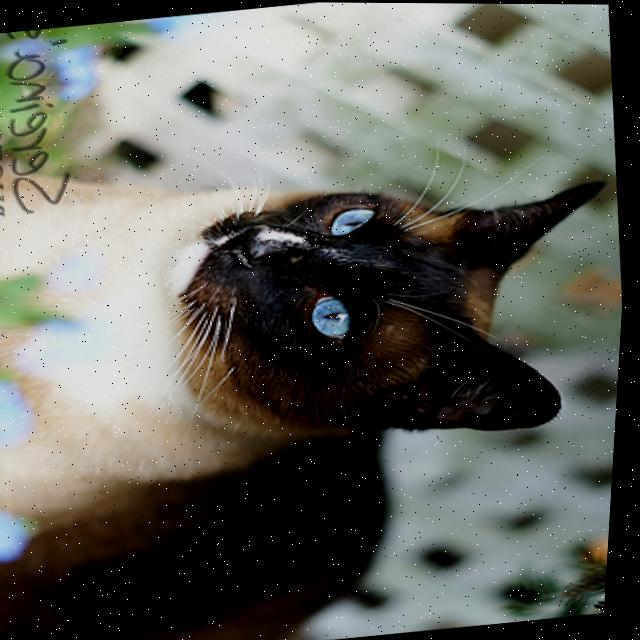Siamese: (0, 82, 636, 640)
